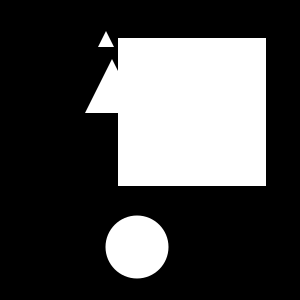circle: (118, 38, 266, 186)
rectangle: (106, 216, 168, 278)
triangle: (85, 59, 139, 113), (152, 76, 178, 102), (98, 31, 114, 47)
